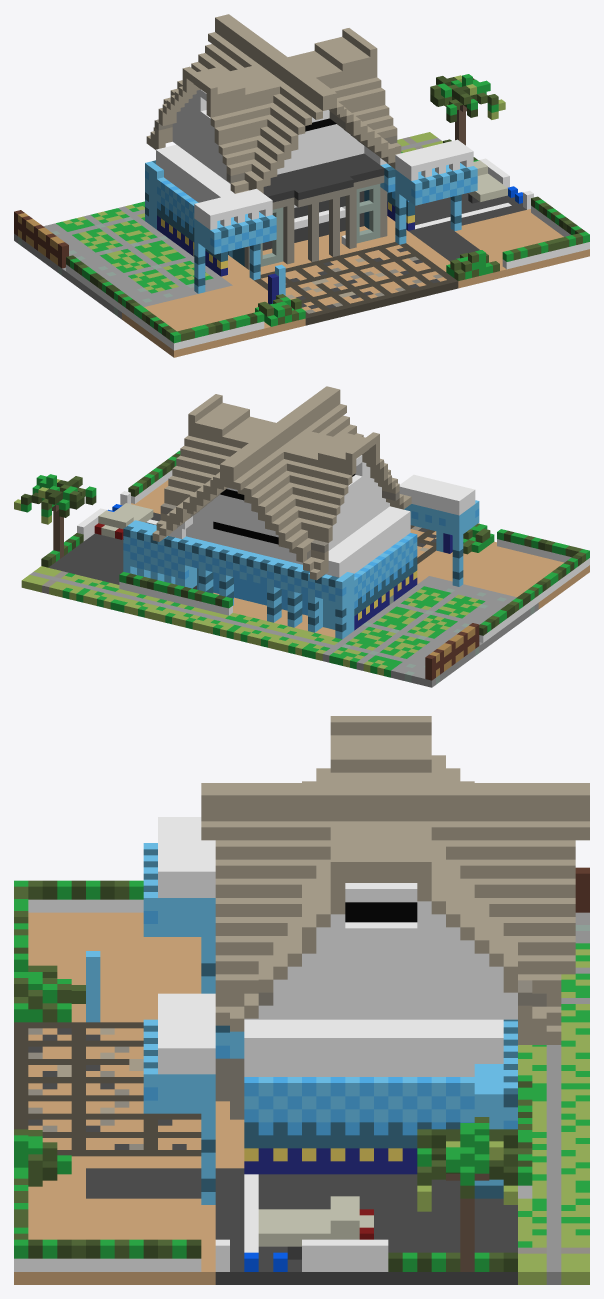
The model's file is kagoshimasuizokukan.glb.
The picture shows the model from 3 angles, top to bottom: view 1: azimuth 30°, elevation 25°; view 2: azimuth 150°, elevation 25°; view 3: azimuth 270°, elevation 25°; orthographic projection. The views are drawn at different scales.
Parts seen in each view (by area): view 1: Untitled; view 2: Untitled; view 3: Untitled.
Part boxes in pixels (x1,y1,x2,y2): Untitled: (14, 14, 589, 357); Untitled: (14, 386, 589, 687); Untitled: (14, 716, 589, 1284).
Size of the model in its own units: 1.28 by 0.48 by 0.8.
1 material, 1 textured.
